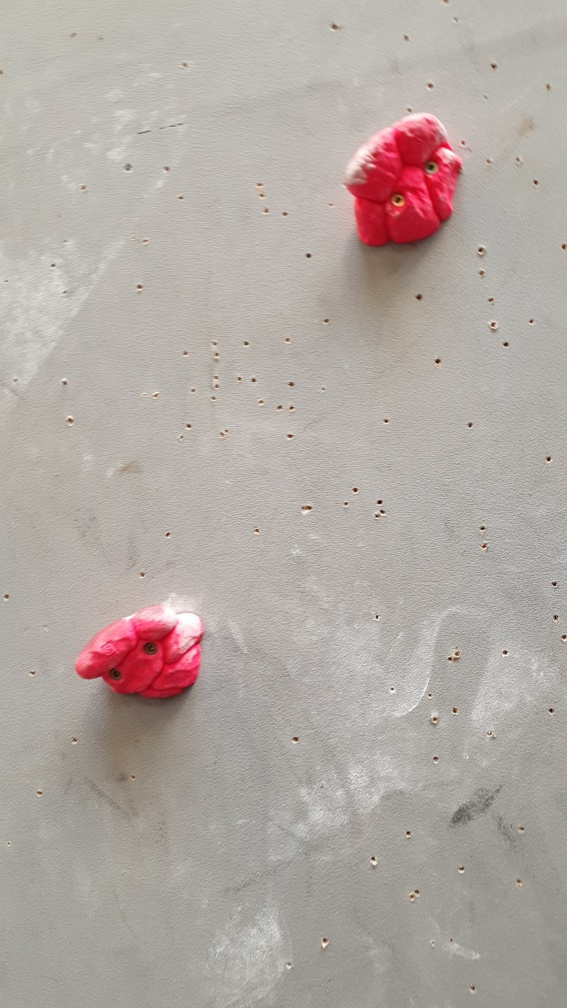Jug: (334, 112, 467, 247), (78, 604, 205, 704)
